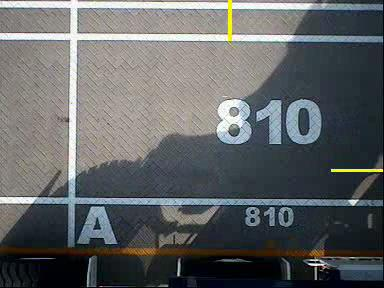groundmarker_2: (109, 2, 160, 42), (112, 144, 163, 183)
